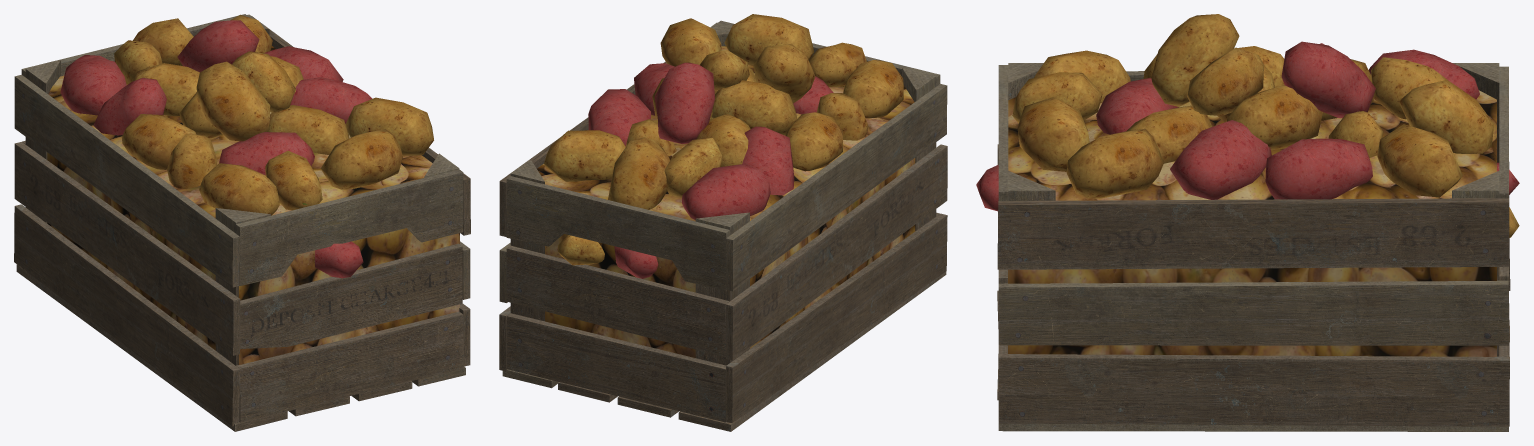
Rendered from SM_box_potatoes_01.fbx.
The picture shows the model from 3 angles, left to right: view 1: azimuth 30°, elevation 25°; view 2: azimuth 150°, elevation 25°; view 3: azimuth 270°, elevation 25°; orthographic projection. The views are drawn at different scales.
Visible parts, largest first — view 1: SM_box_potatoes_01_LOD0; view 2: SM_box_potatoes_01_LOD0; view 3: SM_box_potatoes_01_LOD0.
Part boxes in pixels (x1,y1,x2,y2): SM_box_potatoes_01_LOD0: [14, 14, 470, 431]; SM_box_potatoes_01_LOD0: [499, 14, 947, 431]; SM_box_potatoes_01_LOD0: [976, 14, 1519, 431].
Bounding box in the file's own units: 61.47 × 102 × 68.39.
3 materials, 3 textured.
